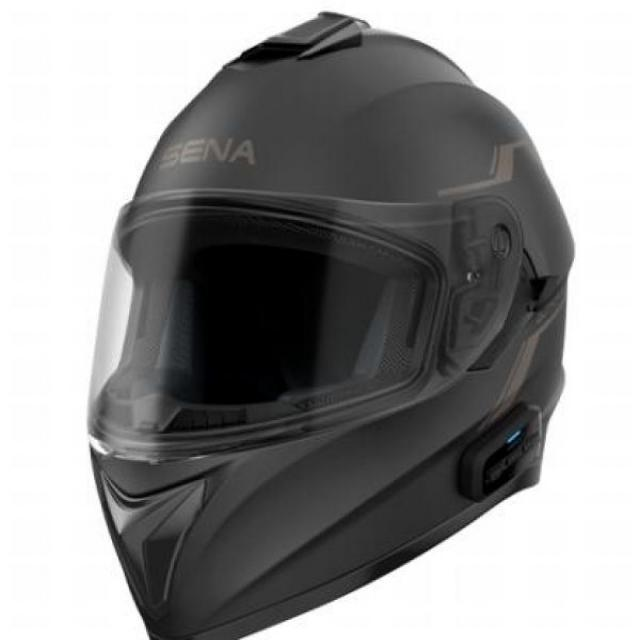Helmet: (106, 11, 554, 610)
